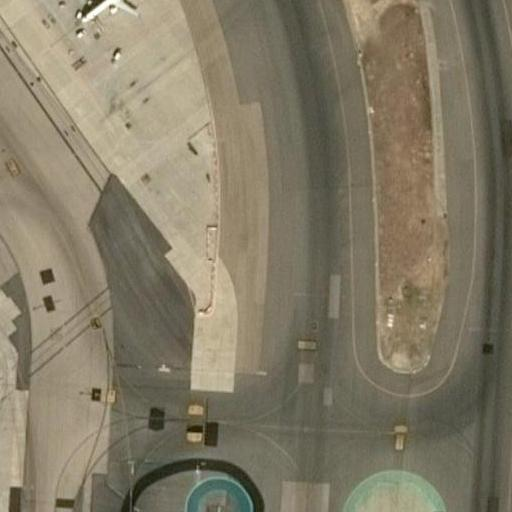Aircraft: (77, 0, 156, 28)
